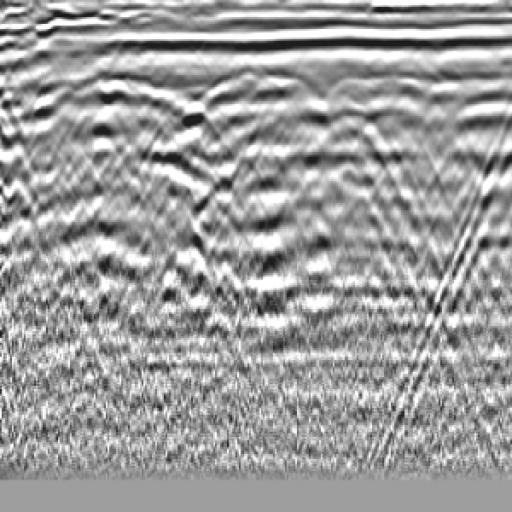metalic: (297, 70, 405, 173)
